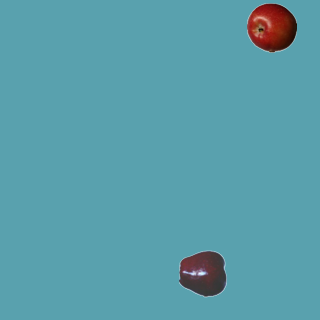Apple Braeburn: (246, 2, 296, 52)
Apple Red Delicious: (178, 248, 228, 298)
